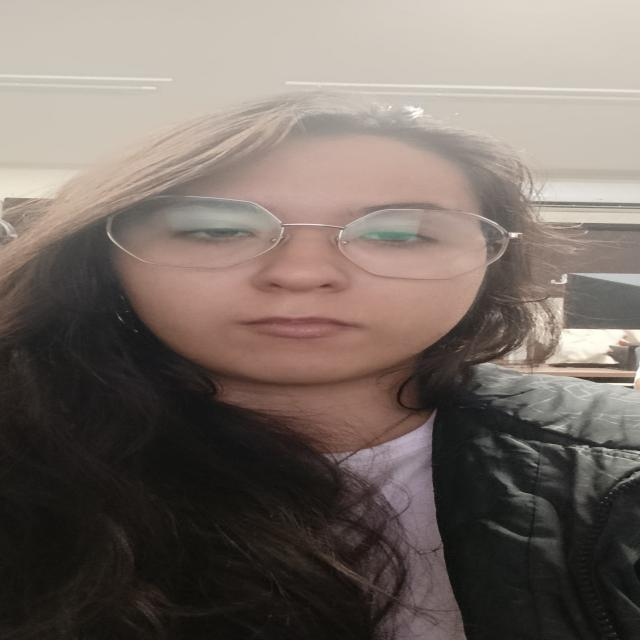sem_oculos: (101, 184, 556, 279), (107, 196, 521, 281)
